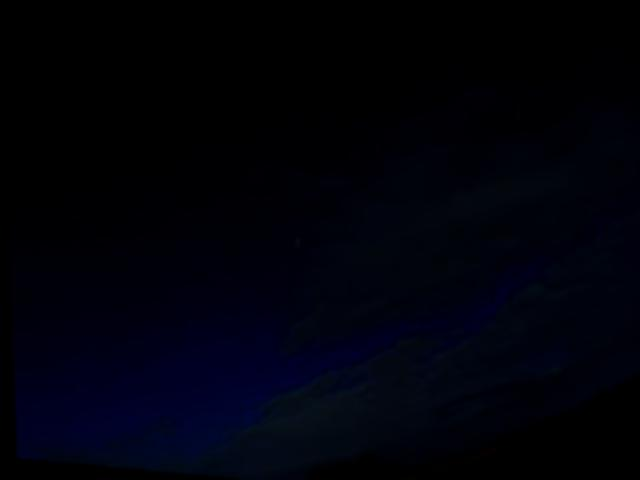uav: (283, 226, 308, 255)
